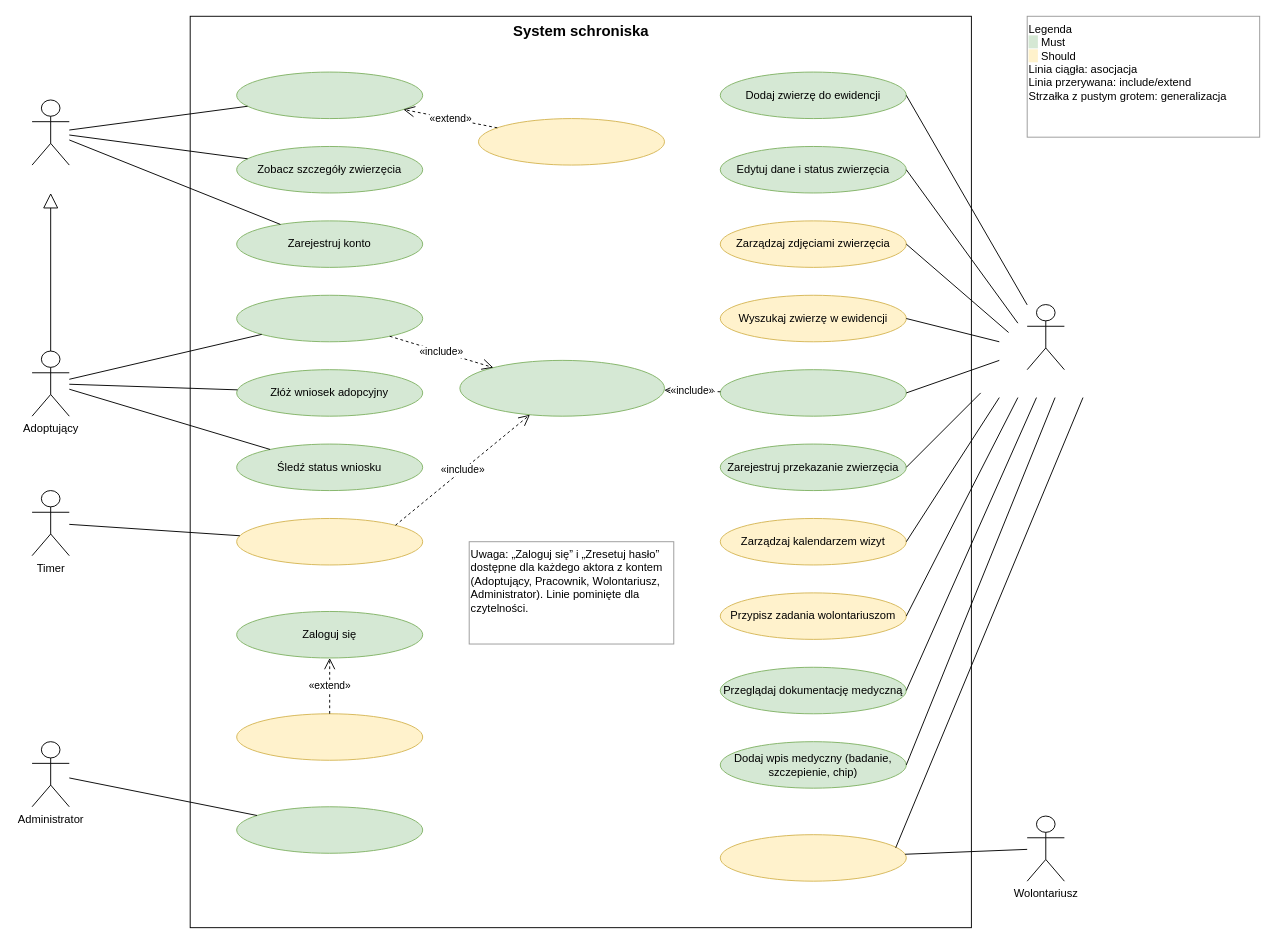
Image size: 1276x944. Some labels were removed from this diagram. Here are the shapes that lost their labels. From the top down, the centre of each, then its label:
pixel 329 95: Przeglądaj katalog zwierząt
pixel 50 132: Odwiedzający
pixel 571 141: Filtruj katalog
pixel 329 318: Umów wizytę zapoznawczą
pixel 1045 337: Pracownik schroniska
pixel 561 387: Wyświetl powiadomienie w aplikacji
pixel 812 392: Rozpatrz wniosek adopcyjny
pixel 329 541: Wyślij przypomnienie o wizycie
pixel 329 736: Zresetuj hasło
pixel 329 829: Zarządzaj kontami użytkowników
pixel 812 857: Realizuj zadania
